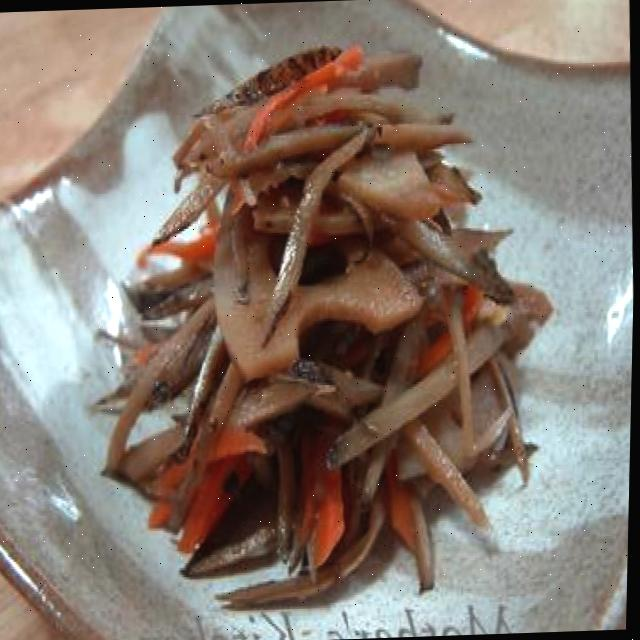蔬菜料理: (19, 0, 640, 638)
